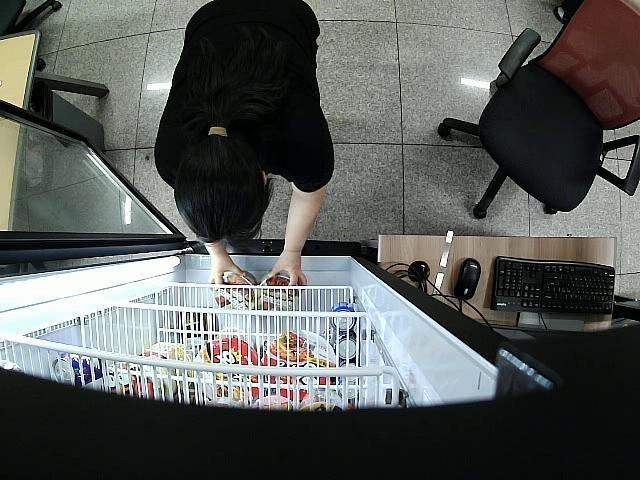03_chapagetti_L: (214, 270, 256, 310), (258, 274, 300, 313)
